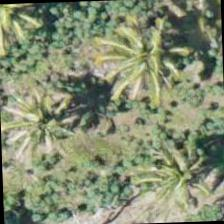Kelapa_Sawit: (6, 82, 99, 174), (110, 0, 204, 91), (134, 133, 223, 223)
